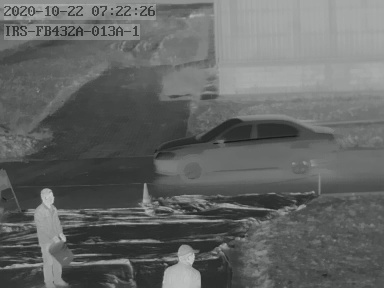person: (31, 187, 70, 288), (160, 241, 202, 288)
vehicle: (150, 113, 340, 178)
